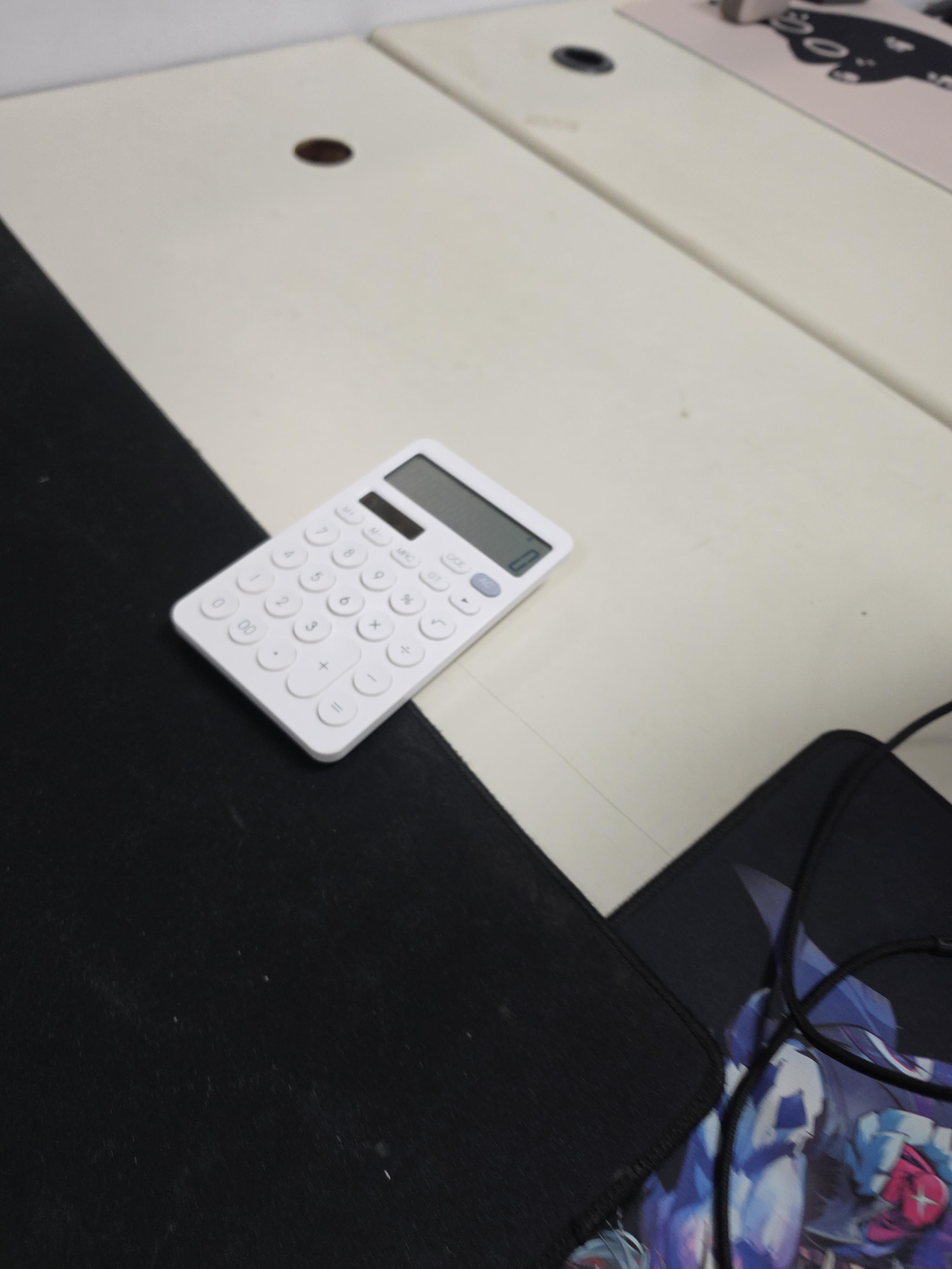calculator: (169, 436, 575, 765)
